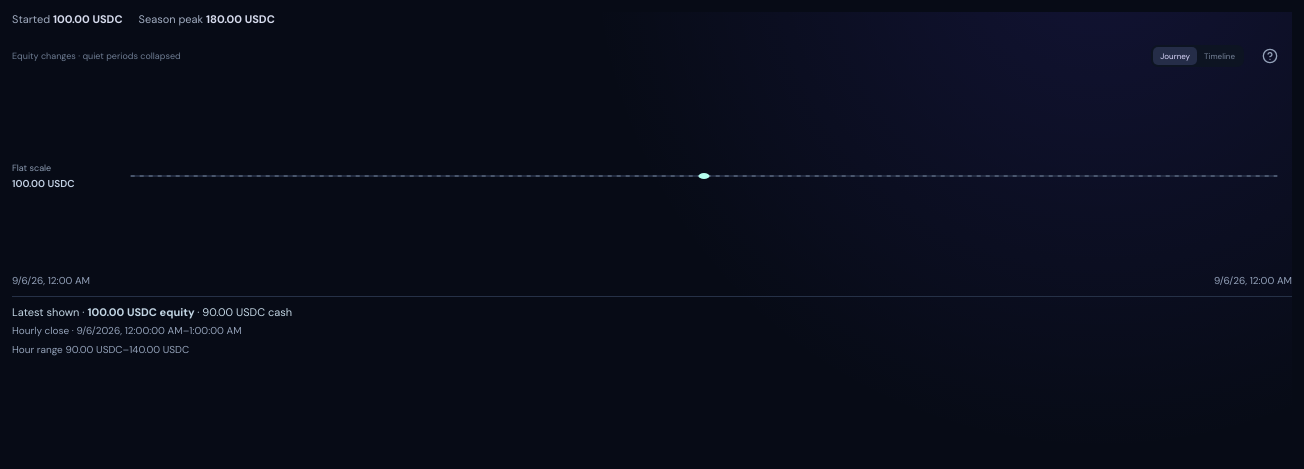
Test case: equity inspection › hourly close is labelled as an interval with its range, never an exact observation
Focus the slider at (704,176), box 116,86 -> 1292,266
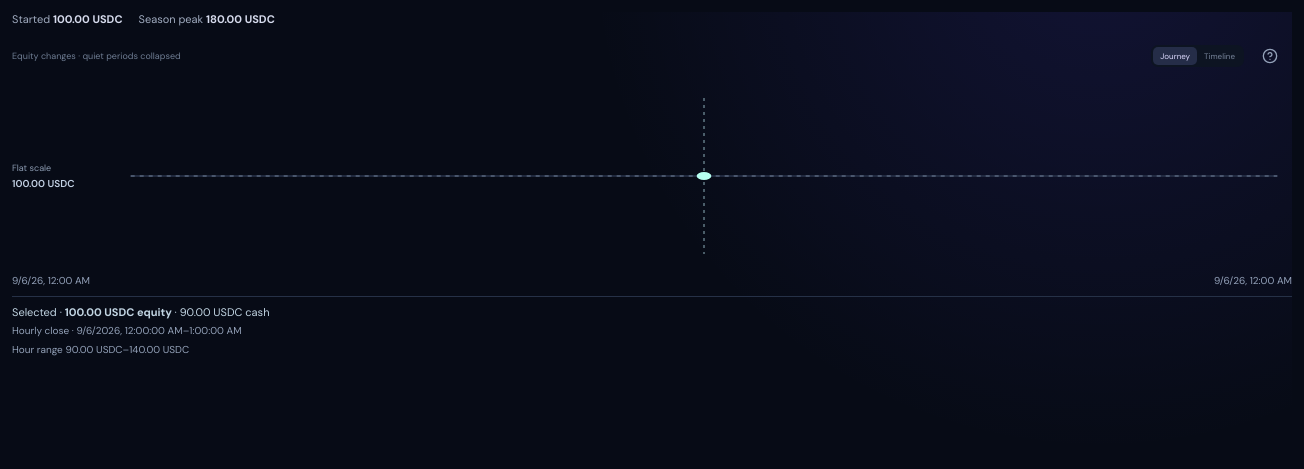
Expected: the text "Hourly close · 9/6/2026, 12:00:00 AM–1:00:00 AM" is shown, 12,324 -> 242,336
Expected: the text "Hour range 90.00 USDC–140.00 USDC" is shown, 12,342 -> 189,356
Click the button named "Chart help" at (1270,56), box 1248,34 -> 1292,78
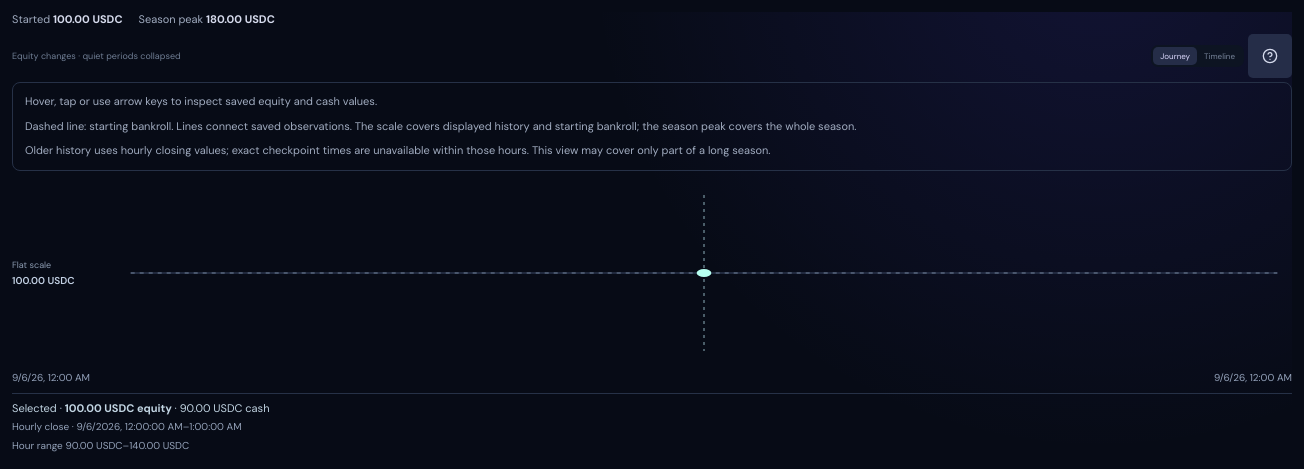
Now the text "exact checkpoint times are unavailable" is shown, box 25,143 -> 770,157
